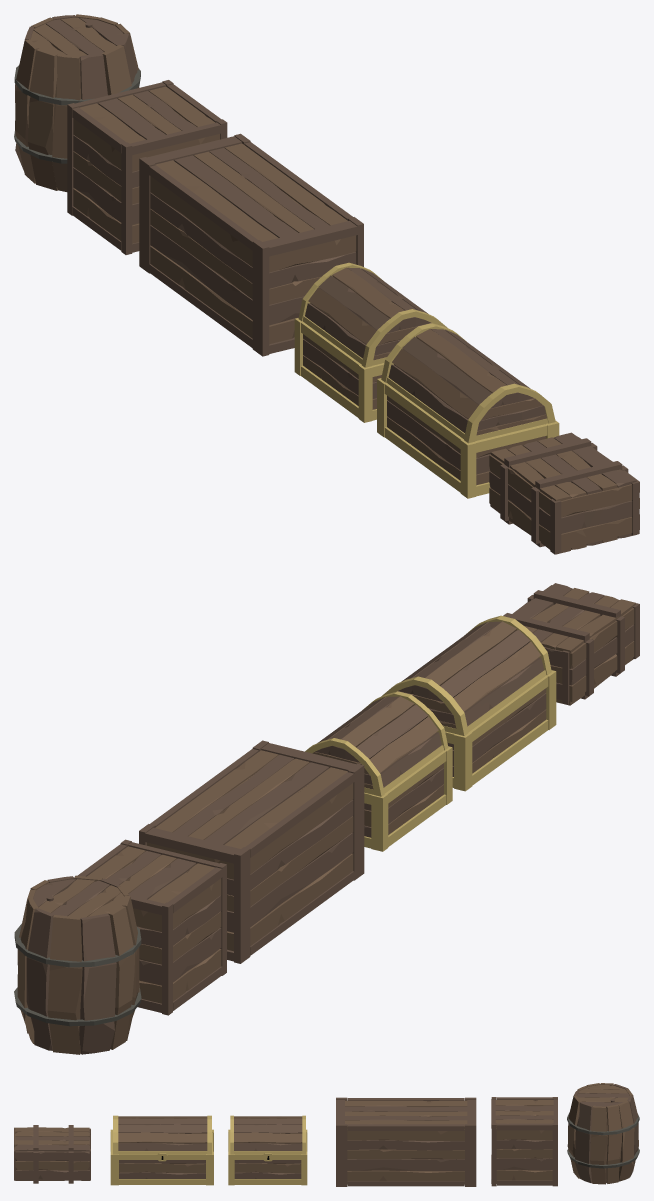
The model's file is wood boxes.glb.
3 views of the same model, one above another, from view 1: azimuth 30°, elevation 25°; view 2: azimuth 150°, elevation 25°; view 3: azimuth 270°, elevation 25° (orthographic). The views are drawn at different scales.
Parts seen in each view (by area): view 1: wood box3, chest big, wood box2, wood box, barrel, chest; view 2: wood box3, barrel, chest big, wood box2, chest, wood box; view 3: wood box3, chest big, barrel, wood box2, chest, wood box.
Part boxes in pixels (x1,y1,x2,y2): wood box3: (139, 133, 363, 356); chest big: (377, 323, 559, 498); wood box2: (67, 80, 227, 254); wood box: (489, 432, 639, 554); barrel: (14, 14, 140, 191); chest: (294, 262, 447, 422); wood box3: (139, 740, 364, 963); barrel: (14, 875, 141, 1054); chest big: (381, 615, 556, 791); wood box2: (78, 839, 226, 1015); chest: (305, 691, 452, 851); wood box: (503, 583, 639, 705); wood box3: (336, 1097, 476, 1186); chest big: (110, 1115, 213, 1185); barrel: (567, 1083, 639, 1184); wood box2: (491, 1097, 557, 1186); chest: (228, 1115, 307, 1185); wood box: (14, 1125, 90, 1183).
Bounding box in the file's own units: 0.7185 × 0.8482 × 6.17.
